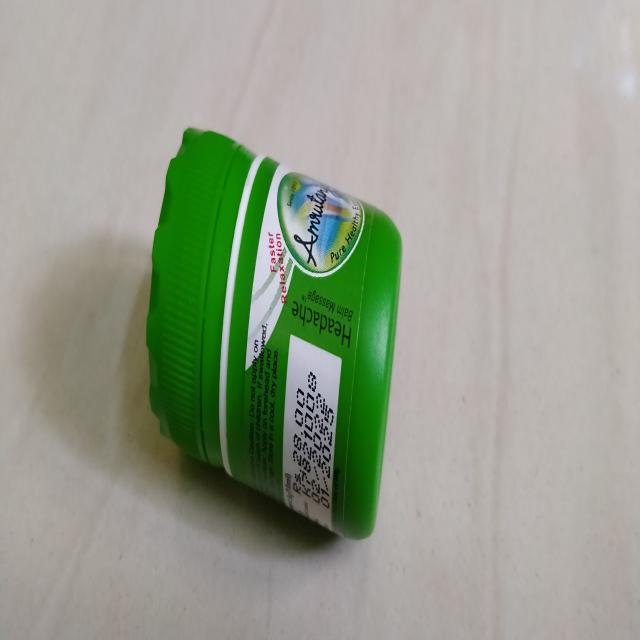eucalyptus oil: (138, 115, 400, 548)
